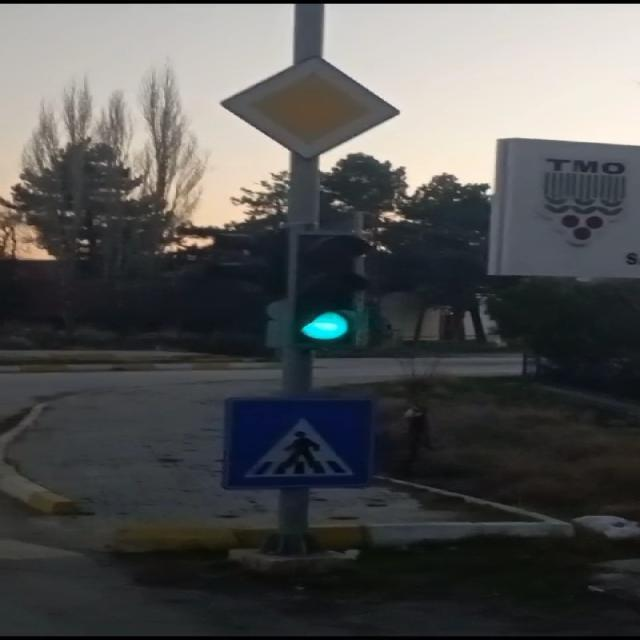yaya: (226, 398, 371, 486)
yesil: (300, 236, 360, 349)
